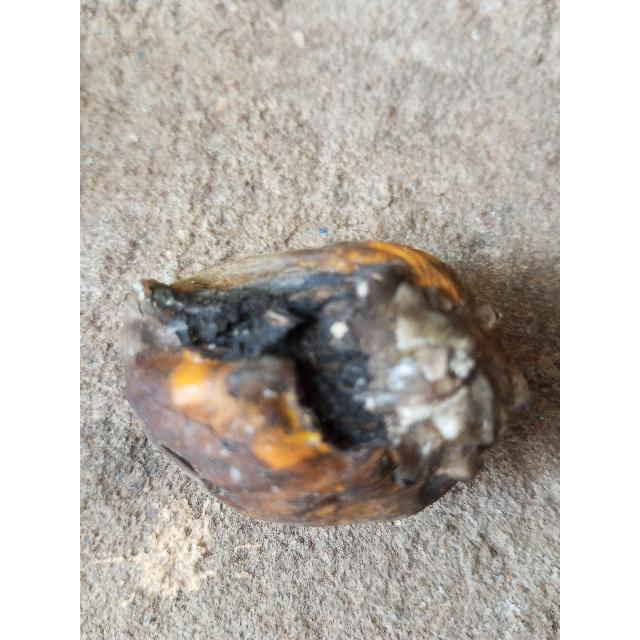damaged: (123, 240, 527, 530)
